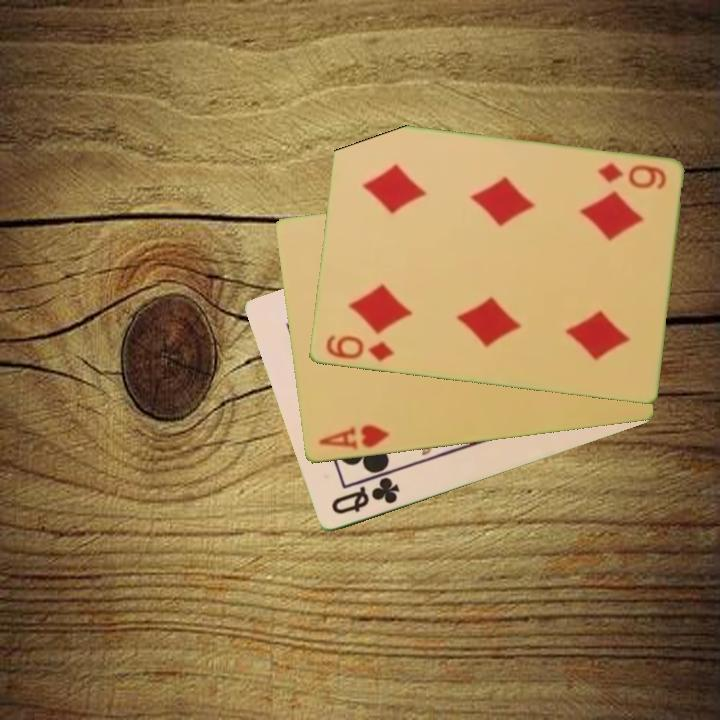6d: (593, 159, 669, 193), (322, 332, 397, 365)
Ah: (315, 421, 392, 453)
Qc: (327, 474, 403, 518)
